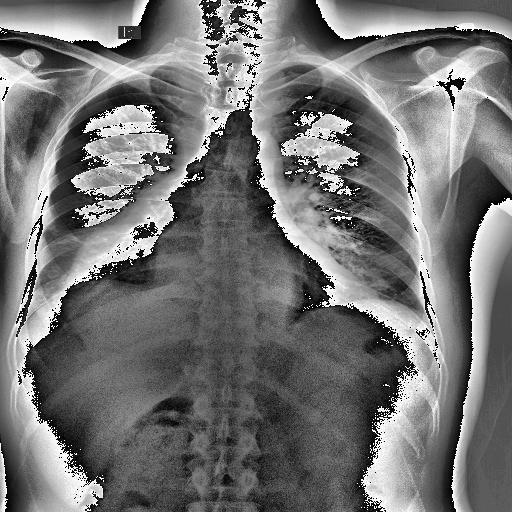1- Atelectasis: (38, 122, 215, 282), (55, 159, 210, 316)
13- Pulmonary fibrosis: (52, 222, 111, 243)
3- Cardiomegaly: (152, 236, 376, 310), (150, 248, 374, 308)
4- Consolidation: (60, 152, 202, 300)
7- Lung Opacity: (38, 122, 215, 282)
